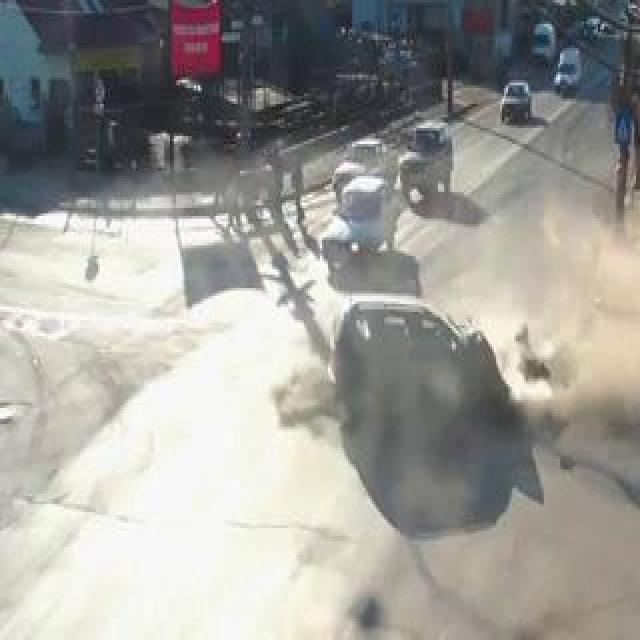car: (335, 286, 510, 429), (324, 171, 408, 281), (402, 117, 455, 203), (334, 137, 400, 189), (500, 78, 534, 126), (554, 49, 582, 98), (531, 18, 556, 62)
